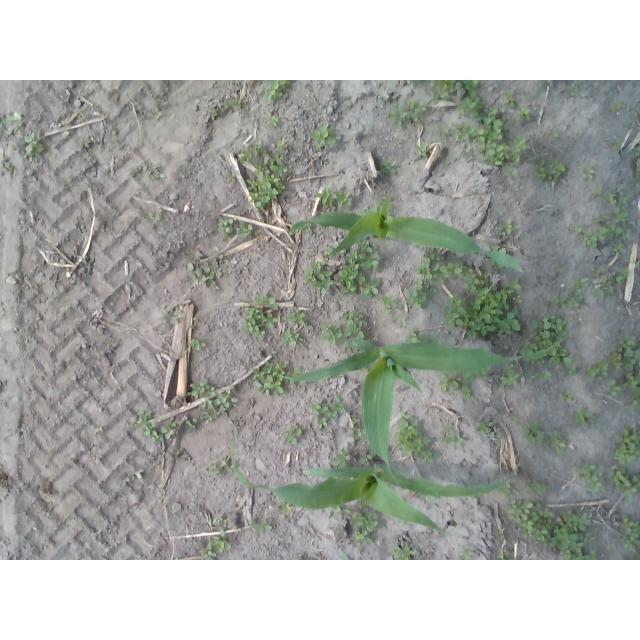Maize: (282, 334, 565, 491), (230, 433, 516, 534), (289, 196, 525, 273)
Weeds: (505, 498, 595, 552), (446, 274, 520, 338), (452, 122, 510, 166), (521, 314, 572, 363), (583, 335, 640, 377), (246, 149, 287, 207), (340, 239, 378, 298), (398, 410, 438, 464), (243, 295, 279, 340), (544, 278, 588, 310), (417, 260, 479, 280), (571, 223, 624, 246), (253, 362, 288, 395), (608, 469, 640, 503), (188, 247, 224, 276), (131, 411, 164, 441), (615, 424, 640, 463), (305, 261, 333, 295), (349, 507, 380, 533), (619, 514, 640, 551), (188, 267, 223, 289), (312, 123, 341, 147), (533, 160, 565, 181), (595, 274, 622, 298), (308, 400, 330, 429), (213, 387, 237, 413), (432, 80, 457, 104), (201, 539, 231, 559), (457, 98, 483, 121), (522, 420, 545, 446), (386, 100, 407, 128), (392, 541, 418, 560), (558, 548, 595, 561), (546, 430, 566, 454), (315, 188, 337, 209), (438, 431, 462, 450), (574, 462, 595, 483), (187, 379, 209, 399), (24, 134, 44, 155), (406, 288, 427, 308), (620, 371, 640, 391), (286, 306, 306, 326), (574, 407, 595, 426), (330, 449, 351, 468), (484, 108, 505, 127), (440, 373, 460, 391), (345, 322, 366, 339), (328, 396, 344, 418), (283, 427, 302, 445), (349, 425, 367, 444), (588, 472, 605, 492), (320, 329, 342, 344), (500, 370, 520, 386), (251, 519, 272, 534), (214, 516, 228, 538), (380, 295, 397, 313), (218, 219, 234, 238), (161, 308, 180, 324), (283, 331, 303, 346), (512, 136, 529, 153), (335, 191, 353, 207), (463, 371, 489, 382), (499, 481, 518, 496), (161, 421, 176, 440), (341, 310, 364, 322), (8, 136, 24, 153), (379, 159, 397, 174), (463, 80, 478, 97), (407, 100, 427, 112), (476, 420, 493, 434), (499, 218, 513, 235), (2, 158, 15, 175), (608, 380, 621, 397), (186, 339, 206, 350), (266, 80, 287, 90), (613, 208, 627, 223), (425, 251, 446, 261), (581, 164, 595, 179), (461, 544, 474, 560), (150, 168, 167, 180), (0, 117, 12, 134), (239, 147, 253, 161), (503, 165, 517, 179), (516, 106, 529, 121), (503, 93, 516, 108), (358, 452, 371, 467), (629, 392, 640, 409), (530, 481, 547, 492), (424, 284, 435, 301), (240, 223, 253, 237), (209, 464, 223, 477), (406, 328, 419, 342), (602, 191, 615, 205), (560, 390, 575, 402), (302, 224, 315, 237), (6, 113, 24, 122), (593, 264, 606, 276), (200, 412, 212, 425), (563, 364, 577, 375), (461, 385, 472, 399), (612, 101, 626, 112), (128, 166, 141, 177), (149, 210, 163, 220), (611, 243, 625, 253), (354, 529, 368, 539), (265, 91, 277, 102), (282, 501, 294, 512), (541, 368, 552, 379), (407, 111, 419, 121), (186, 419, 198, 429), (508, 152, 521, 161), (548, 268, 564, 275), (635, 157, 640, 179), (201, 397, 211, 408), (414, 278, 423, 290), (614, 138, 622, 151), (546, 129, 559, 137), (268, 116, 278, 126), (220, 455, 230, 465), (567, 87, 577, 97), (253, 142, 264, 151), (622, 228, 631, 239), (606, 542, 617, 551), (437, 128, 447, 137), (277, 138, 287, 147), (136, 469, 145, 479), (616, 185, 625, 195), (599, 213, 610, 221), (352, 413, 360, 424), (357, 542, 364, 554), (620, 267, 628, 277), (498, 556, 514, 561), (325, 246, 333, 255), (81, 141, 91, 148), (322, 325, 332, 332), (228, 173, 236, 181), (232, 100, 240, 108), (225, 99, 232, 108), (421, 141, 428, 150), (211, 108, 218, 116), (445, 422, 451, 431), (593, 189, 602, 195), (491, 245, 498, 252), (97, 427, 104, 434), (308, 106, 316, 112), (180, 174, 189, 179), (156, 111, 162, 118), (416, 150, 424, 155), (638, 143, 640, 158), (407, 81, 412, 84), (548, 81, 553, 84), (144, 166, 147, 170)
